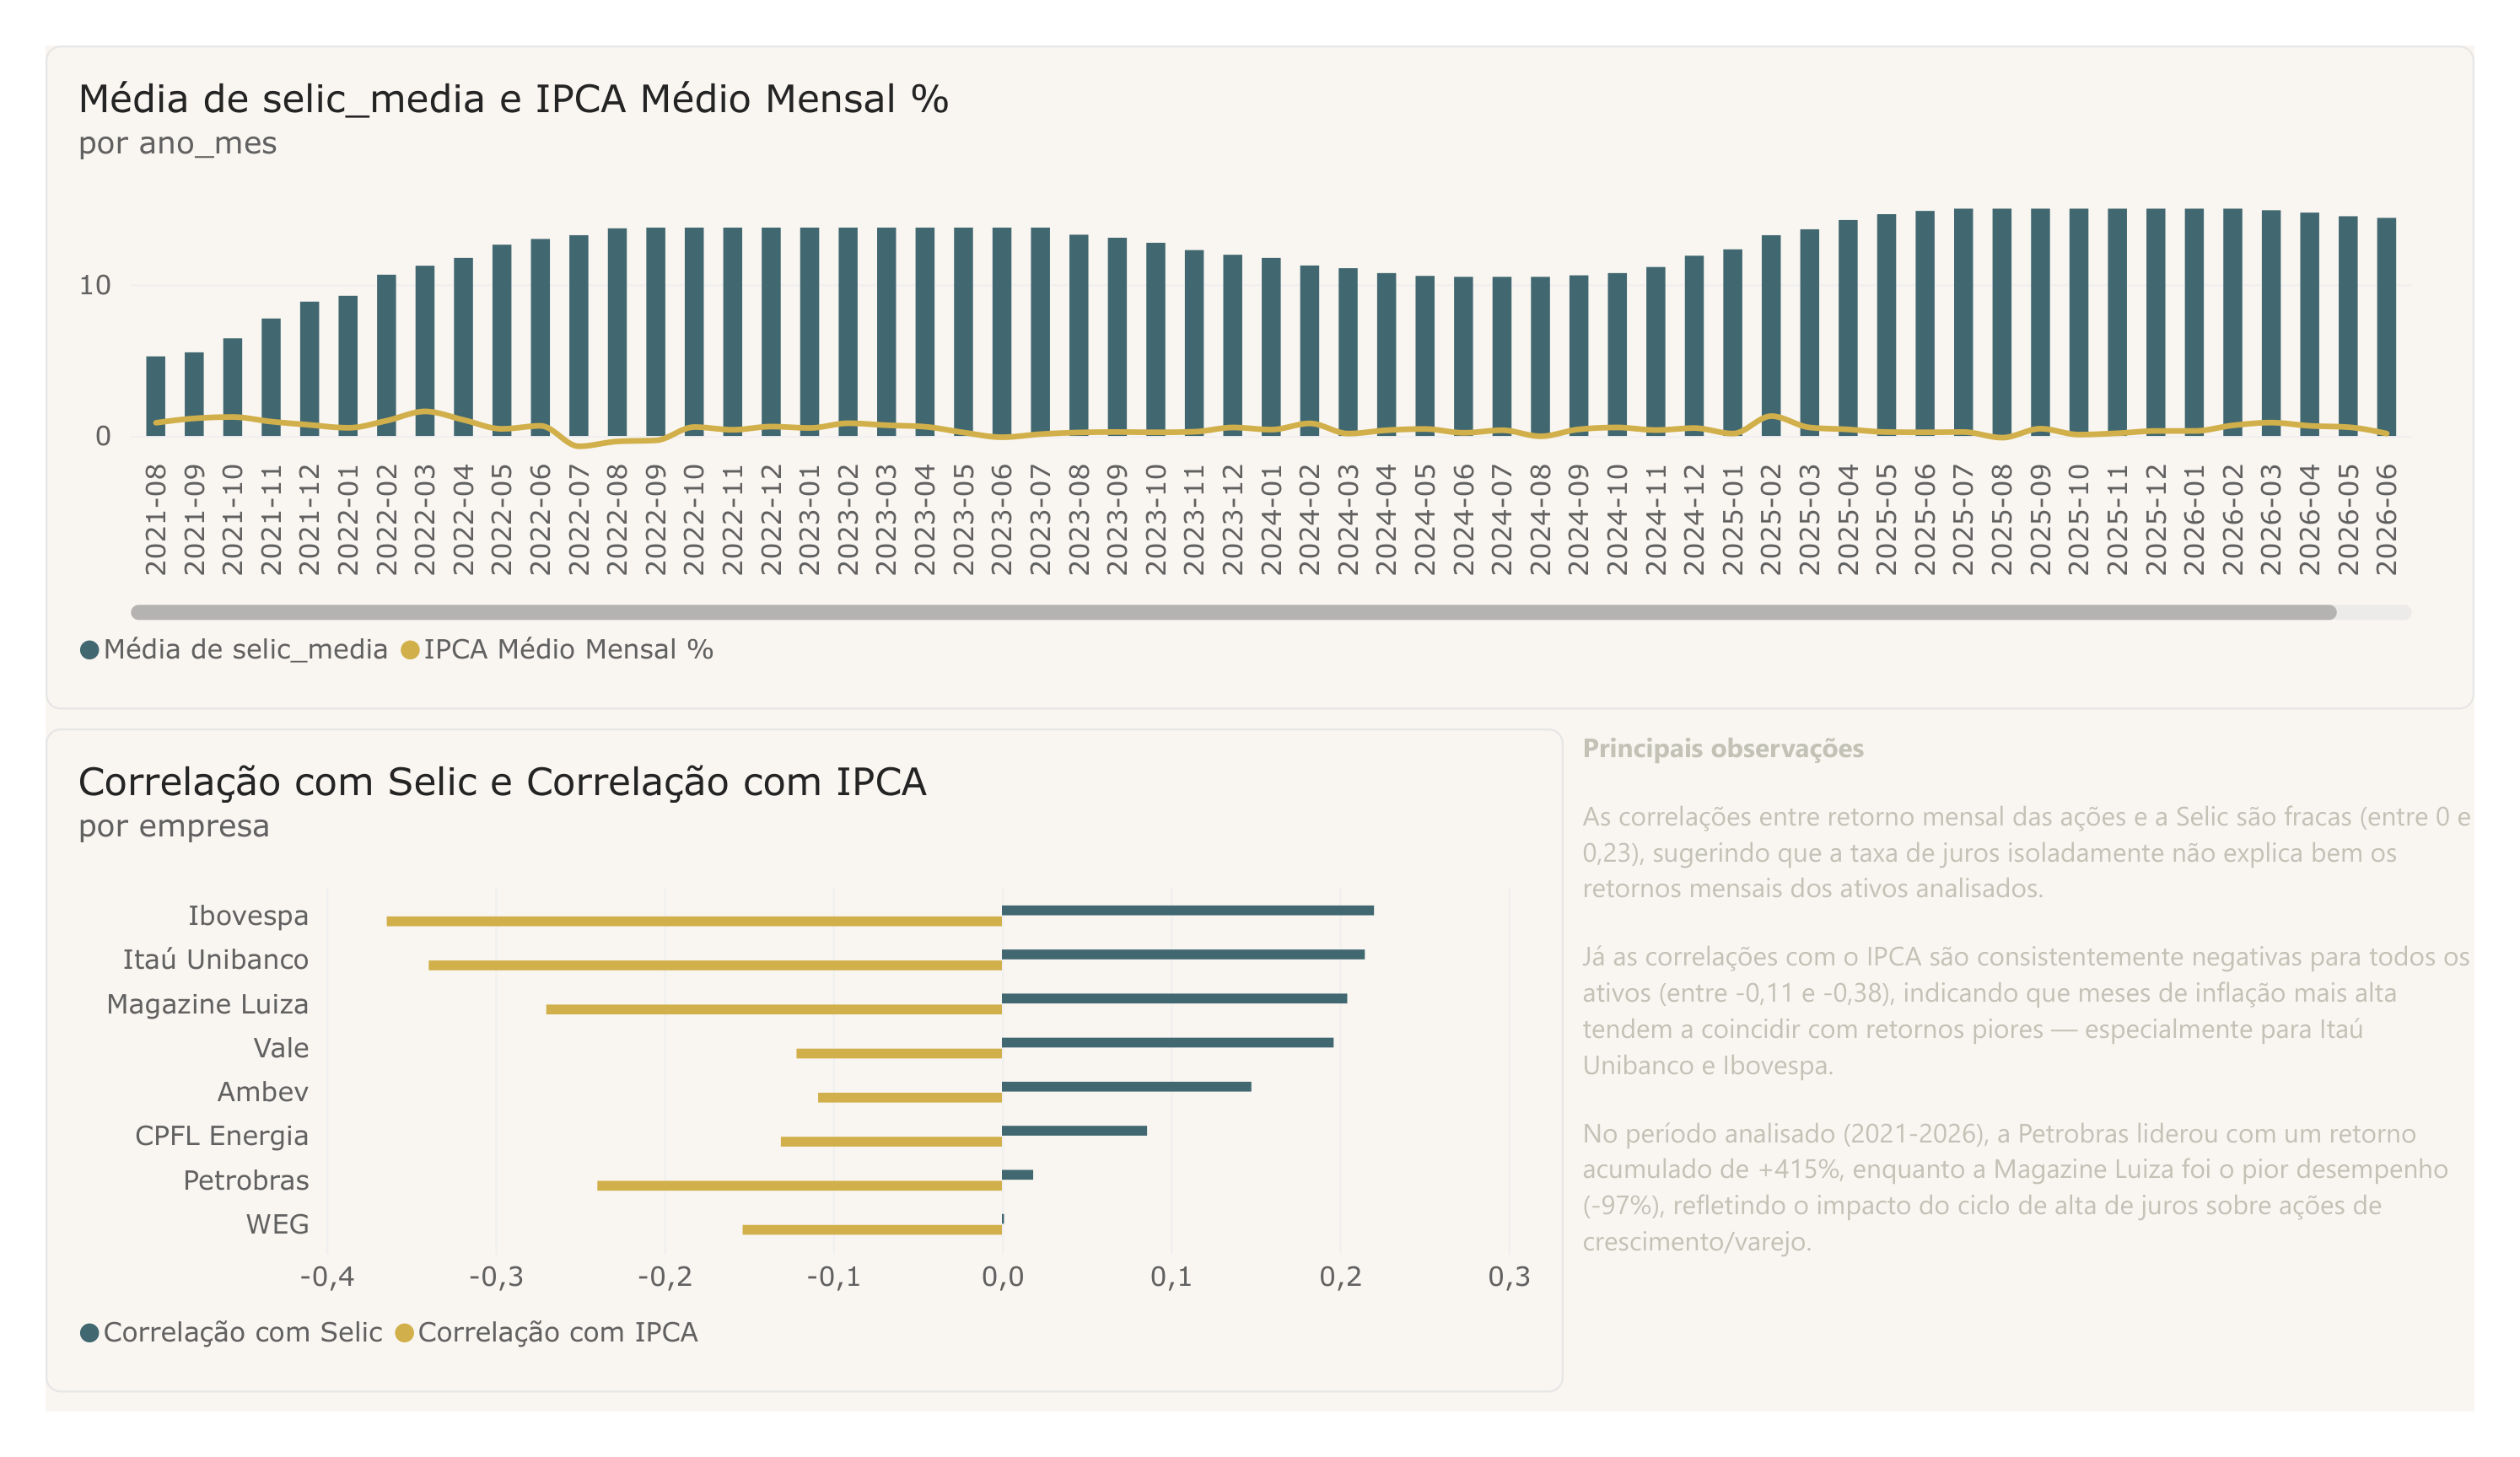

Layout of this report page (visuals, bound fields, positions):
{"tool":"powerbi","page":{"name":"Ações x Macro","canvas":[1280,720],"ordinal":2},"visuals":[{"type":"lineClusteredColumnComboChart","fields":{"Category":["dim_datas.ano_mes"],"Y":["Avg(fato_retornos.selic_media)"],"Y2":["fato_retornos.IPCA Médio Mensal %"]},"box":[0,0,1280,350],"z":0},{"type":"clusteredBarChart","fields":{"Category":["dim_ativos.empresa"],"Y":["fato_retornos.Correlação com Selic","fato_retornos.Correlação com IPCA"]},"box":[0,360,800,350],"z":1},{"type":"textbox","box":[810,360,470,350],"z":2}]}

Visuals, with their boxes in screenshot pixels (x1, y1, x2, y2), scaled from the page's 1280x720 canvas onto the 2520x1457 screenshot:
lineClusteredColumnComboChart - dim_datas.ano_mes x Avg(fato_retornos.selic_media): region(0, 0, 2519, 708)
clusteredBarChart - dim_ativos.empresa x fato_retornos.Correlação com Selic: region(0, 728, 1575, 1437)
textbox: region(1595, 728, 2519, 1437)
